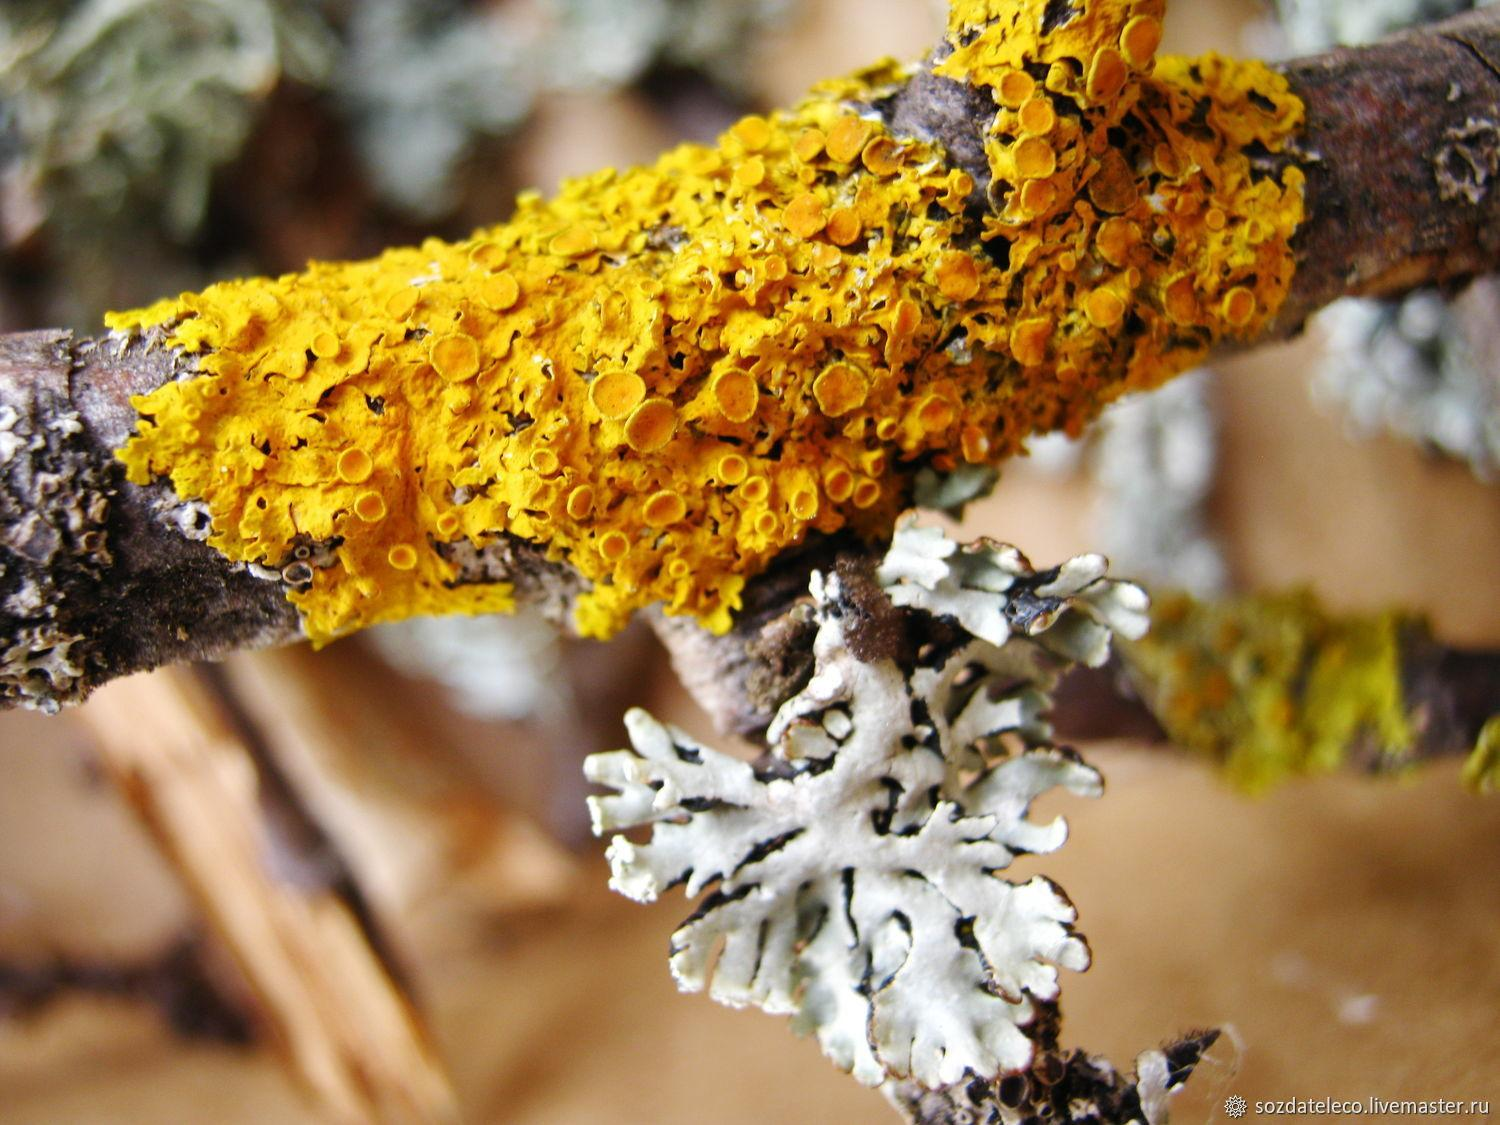lichen: (107, 0, 1302, 640), (585, 516, 1147, 1093)
